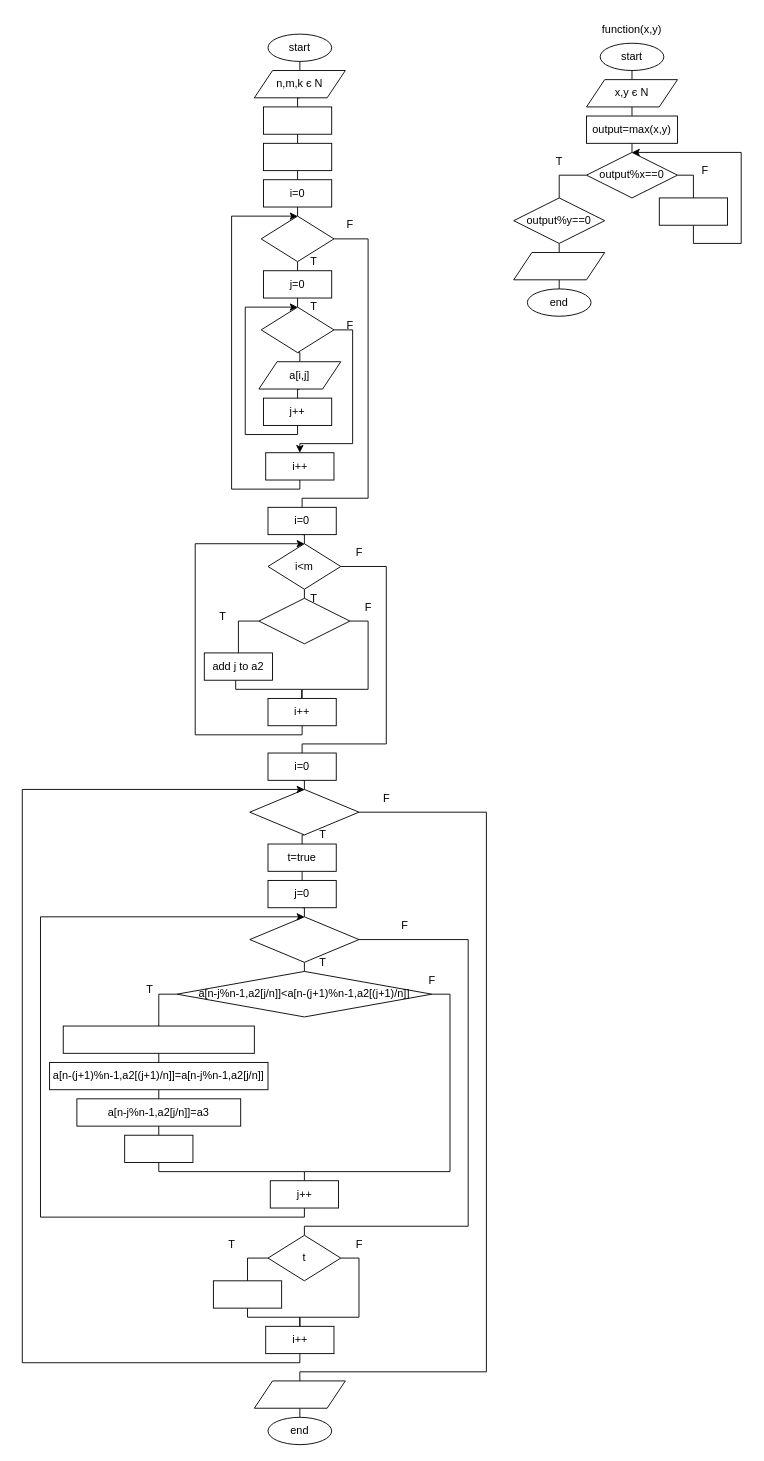
Some shapes in this 764 by 1461 pixel diagram are drawn without their labels. Here are the shapes that lost their labels. From the top down, the box of each, then its label:
(263, 106, 332, 134): arr a[n,m]
(263, 142, 332, 171): list a2
(658, 197, 728, 225): output++
(260, 215, 334, 262): i<n
(513, 252, 605, 280): output%2!=0
(260, 306, 334, 353): j<m
(258, 597, 350, 644): function(j+1,k)
(249, 789, 359, 835): i<n*a2.Count-1
(249, 916, 359, 962): j<n*a2.Count-i-1
(62, 1025, 254, 1053): a3=a[n-(j+1)%n-1,a2[(j+1)/n]]
(124, 1134, 193, 1163): t=false
(212, 1280, 282, 1308): break
(253, 1380, 345, 1408): arr a
